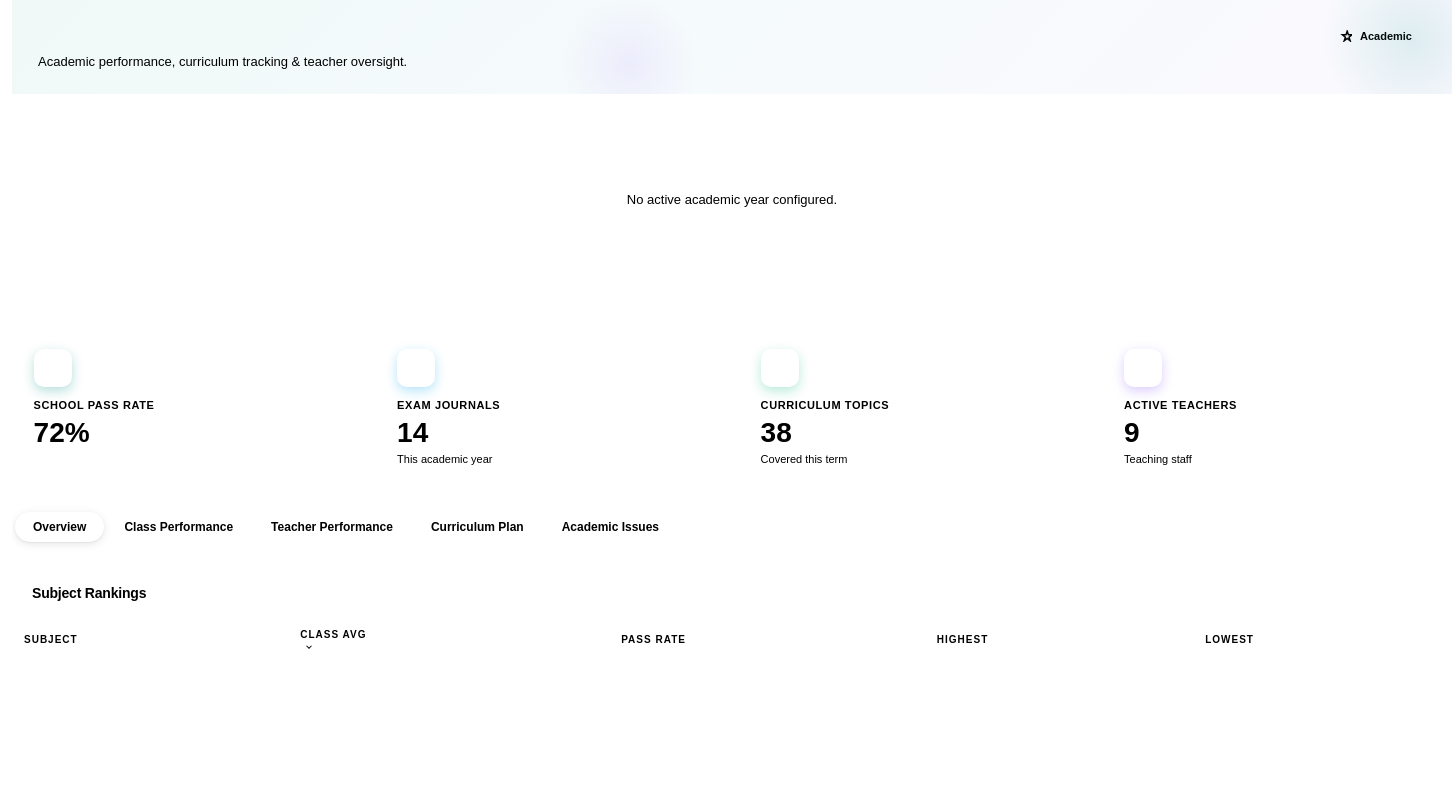
DosDashboard › clicking Curriculum Plan tab shows class and subject selectors
Click the tab "Curriculum Plan": (477, 528) top-left (413, 512), bottom-right (542, 542)
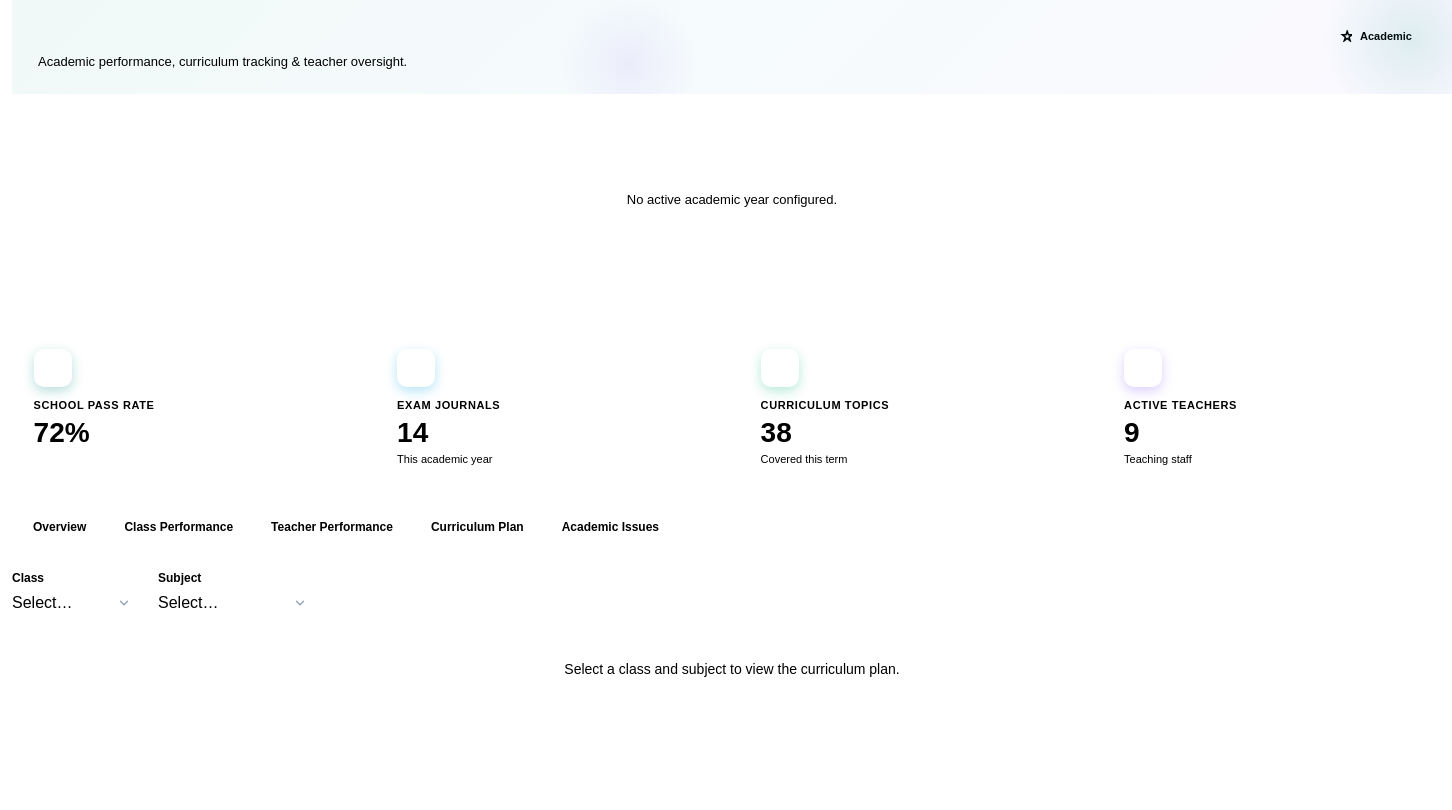
Expected: the text "Select a class and subject to view the curriculum plan." is shown, top-left (564, 662), bottom-right (900, 678)
